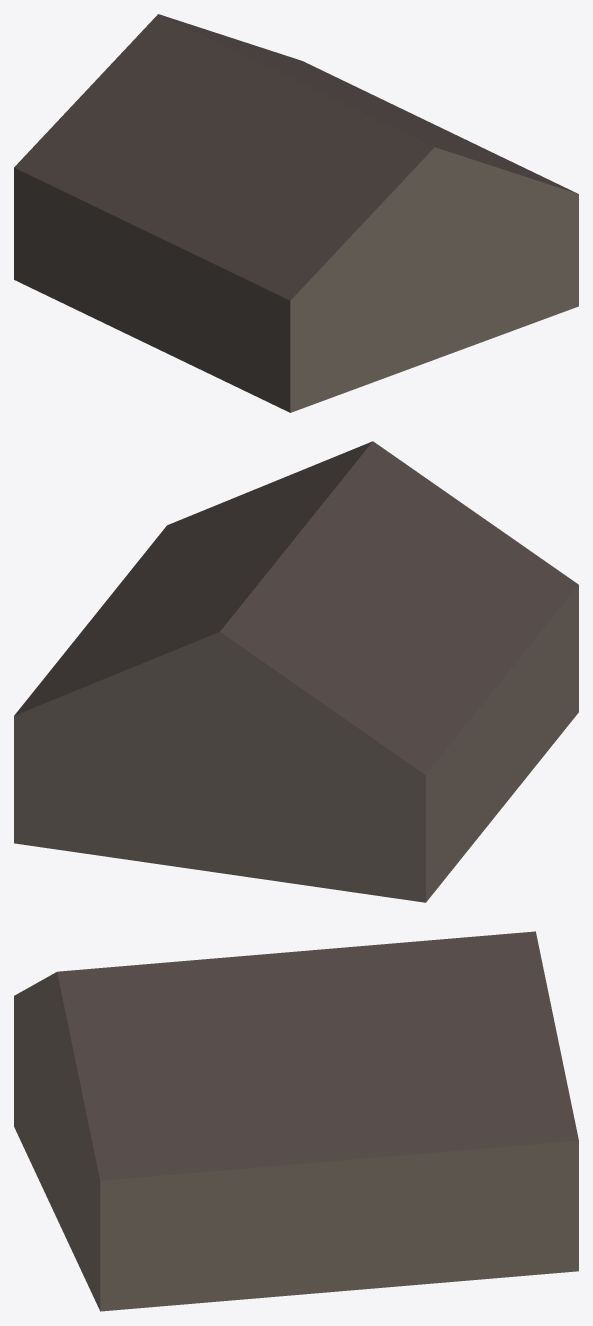
3 renders of one model, top to bottom at view 1: azimuth 30°, elevation 25°; view 2: azimuth 150°, elevation 25°; view 3: azimuth 270°, elevation 25°, orthographic. The views are drawn at different scales.
Parts seen in each view (by area): view 1: HP-w682223764; view 2: HP-w682223764; view 3: HP-w682223764.
Part boxes in pixels (x1,y1,x2,y2): HP-w682223764: [14, 14, 578, 412]; HP-w682223764: [14, 441, 578, 902]; HP-w682223764: [14, 931, 578, 1311].
Size of the model in its own units: 22.18 by 11.36 by 23.52.
